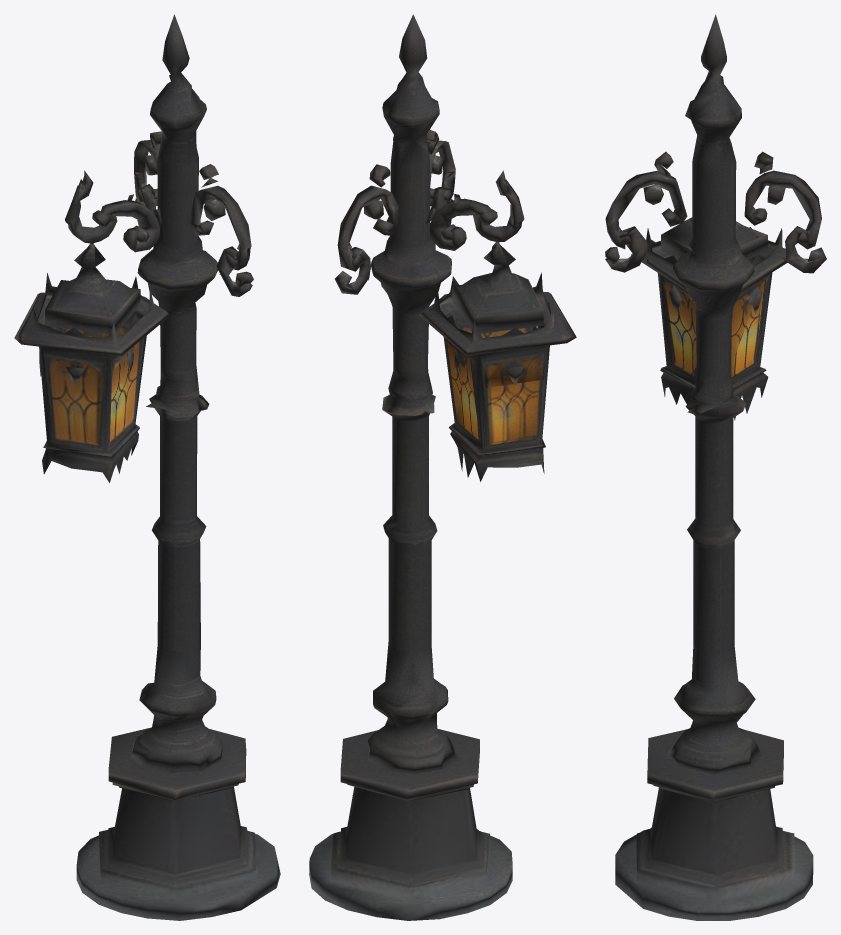
Rendered from street-lantern.glb.
The picture shows the model from 3 angles, left to right: view 1: azimuth 30°, elevation 25°; view 2: azimuth 150°, elevation 25°; view 3: azimuth 270°, elevation 25°; orthographic projection.
Size of the model in its own units: 0.2876 by 0.9526 by 0.2221.
1 material, 1 textured.
